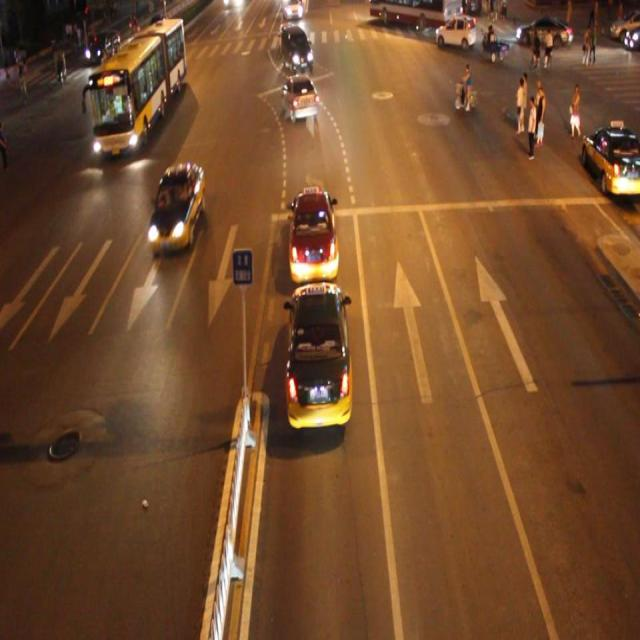car: (283, 280, 352, 428), (146, 162, 205, 250), (287, 188, 339, 284), (280, 72, 318, 122), (280, 28, 314, 75)
van: (89, 18, 185, 154)
